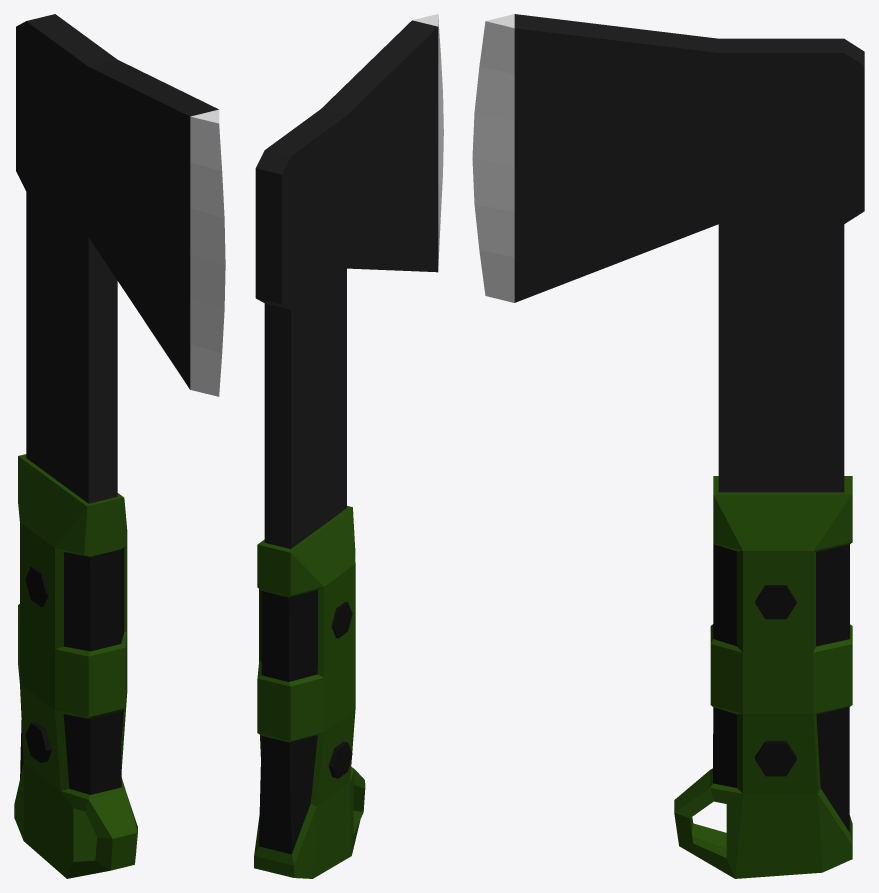
File: Hand Axe.glb
The picture shows the model from 3 angles, left to right: view 1: azimuth 30°, elevation 25°; view 2: azimuth 150°, elevation 25°; view 3: azimuth 270°, elevation 25°; orthographic projection. The views are drawn at different scales.
Parts seen in each view (by area): view 1: Hand Axe; view 2: Hand Axe; view 3: Hand Axe.
Boxes of the visible parts, <box> form: Hand Axe: <box>14,14,225,878</box>; Hand Axe: <box>254,14,443,878</box>; Hand Axe: <box>472,14,864,878</box>.
Bounding box in the file's own units: 0.0327 × 0.3371 × 0.1419.
1 material, 1 textured.
